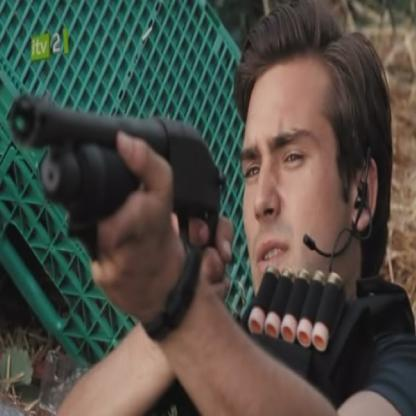Guns: (7, 95, 227, 301)
